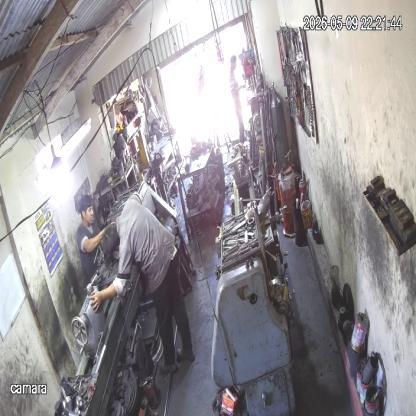sin_lentes: (83, 206, 94, 214)
